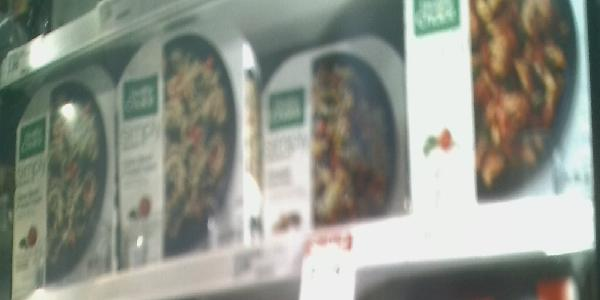pizza1: (405, 1, 595, 221), (108, 21, 248, 263), (265, 37, 408, 233), (9, 90, 115, 290)
